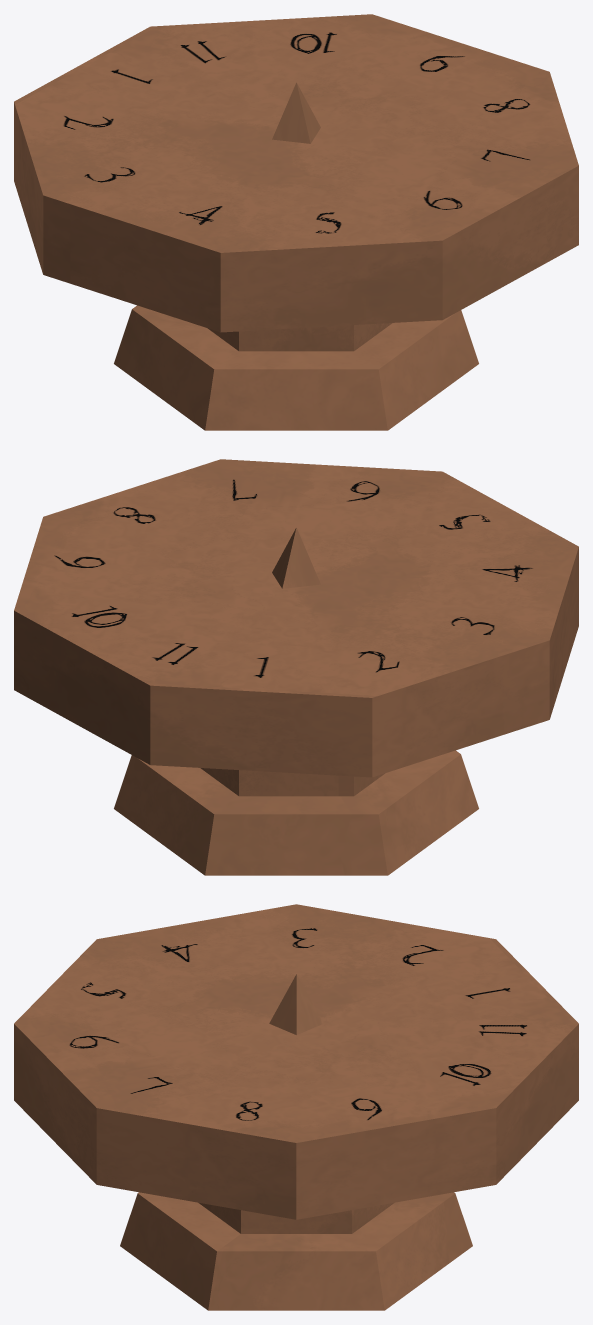
Rendered from mod_structure_forestsundial.fbx.
The picture shows the model from 3 angles, top to bottom: view 1: azimuth 30°, elevation 25°; view 2: azimuth 150°, elevation 25°; view 3: azimuth 270°, elevation 25°; orthographic projection. The views are drawn at different scales.
Parts seen in each view (by area): view 1: mesh_sundial; view 2: mesh_sundial; view 3: mesh_sundial.
Boxes of the visible parts, x1,y1,x2,y2 form: mesh_sundial: (14, 14, 578, 430); mesh_sundial: (14, 459, 578, 875); mesh_sundial: (14, 904, 578, 1310).
Size of the model in its own units: 320 by 170 by 320.
